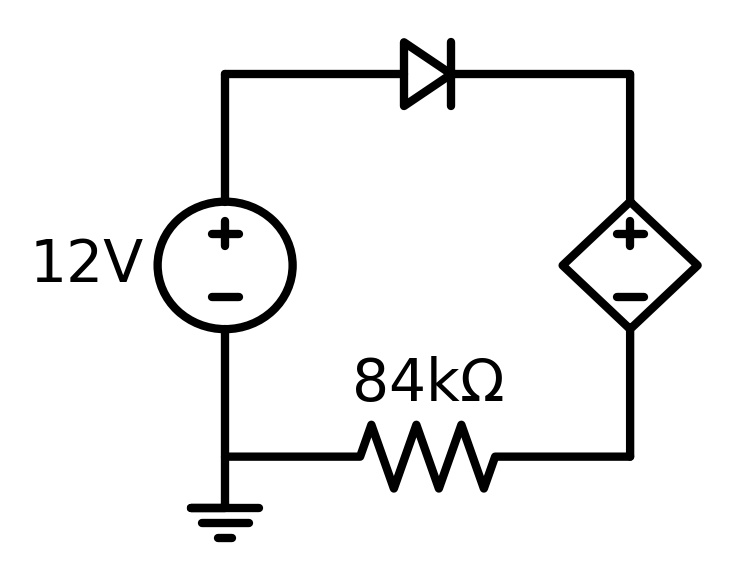diode: (374, 34, 477, 116)
ground: (178, 487, 273, 558)
resistor: (350, 416, 508, 505)
sourcedc: (150, 185, 303, 341)
sourcevc: (555, 196, 704, 336)
